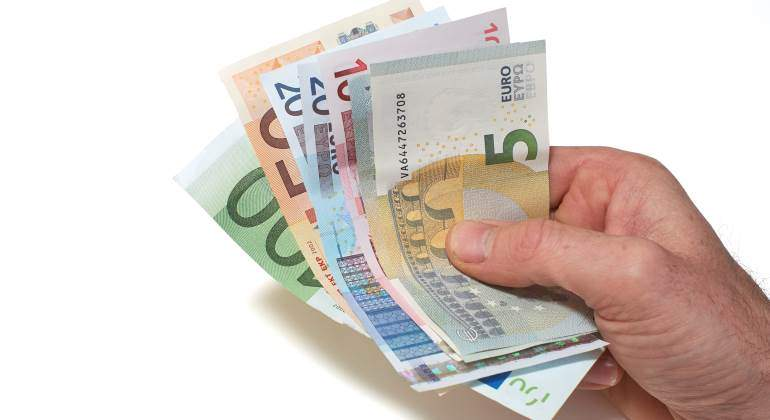billete: (169, 1, 618, 420)
